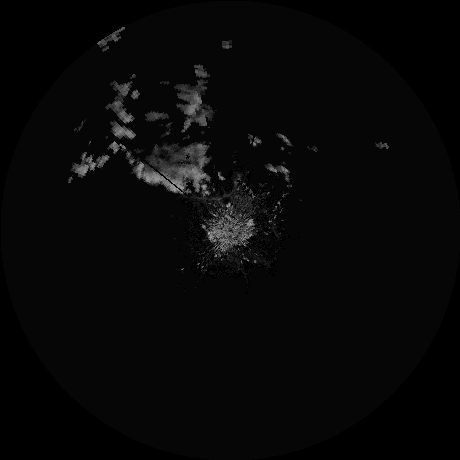frontgust: (188, 181, 237, 203)
